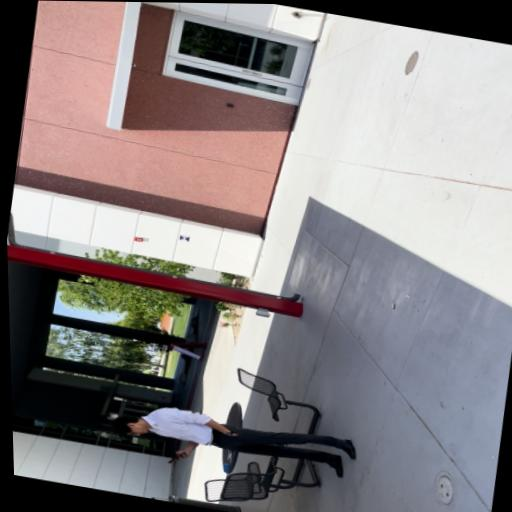target2: (178, 235, 190, 242)
